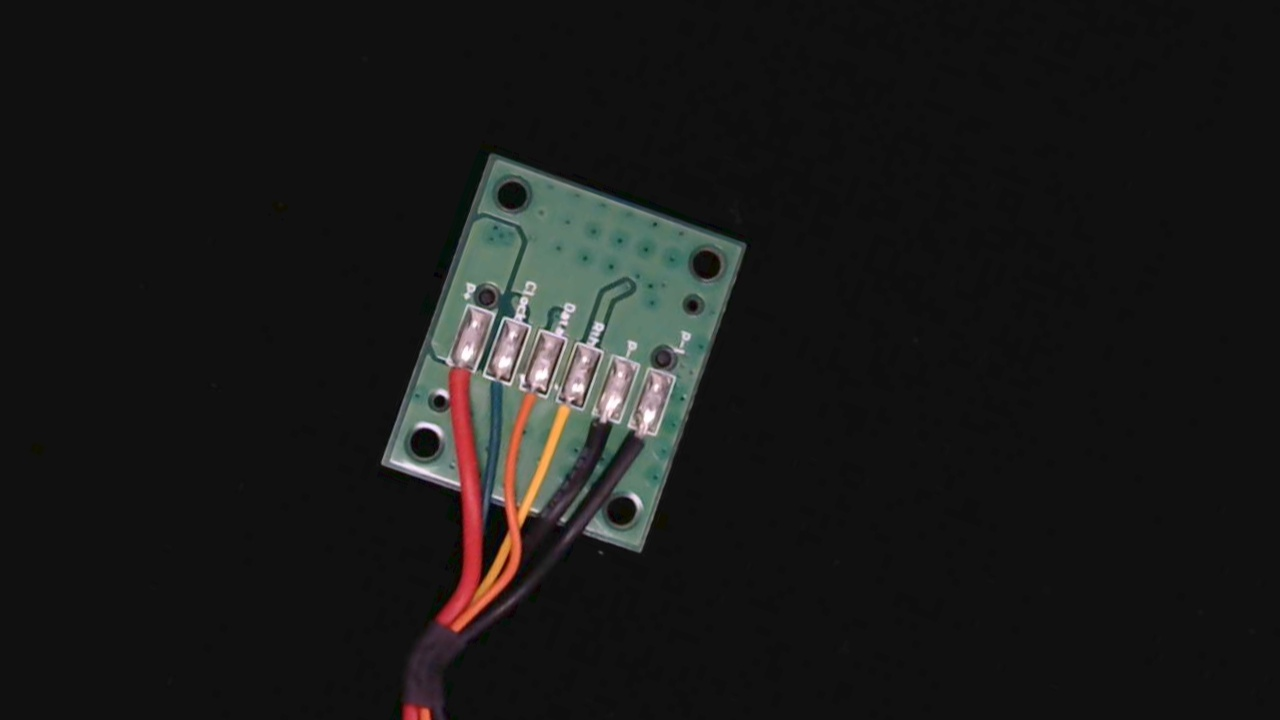Black: (570, 395, 627, 475)
Black1: (609, 409, 664, 484)
Green: (468, 355, 515, 420)
Orange: (498, 372, 552, 449)
Red: (427, 344, 483, 421)
Yellow: (533, 383, 590, 464)
